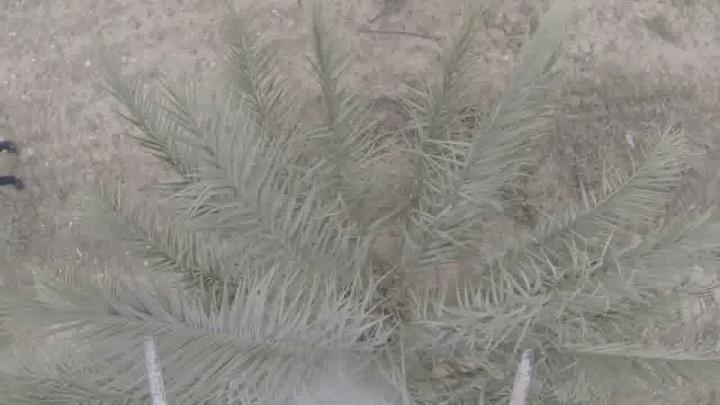Date-Palm-Crown: (182, 87, 590, 405)
